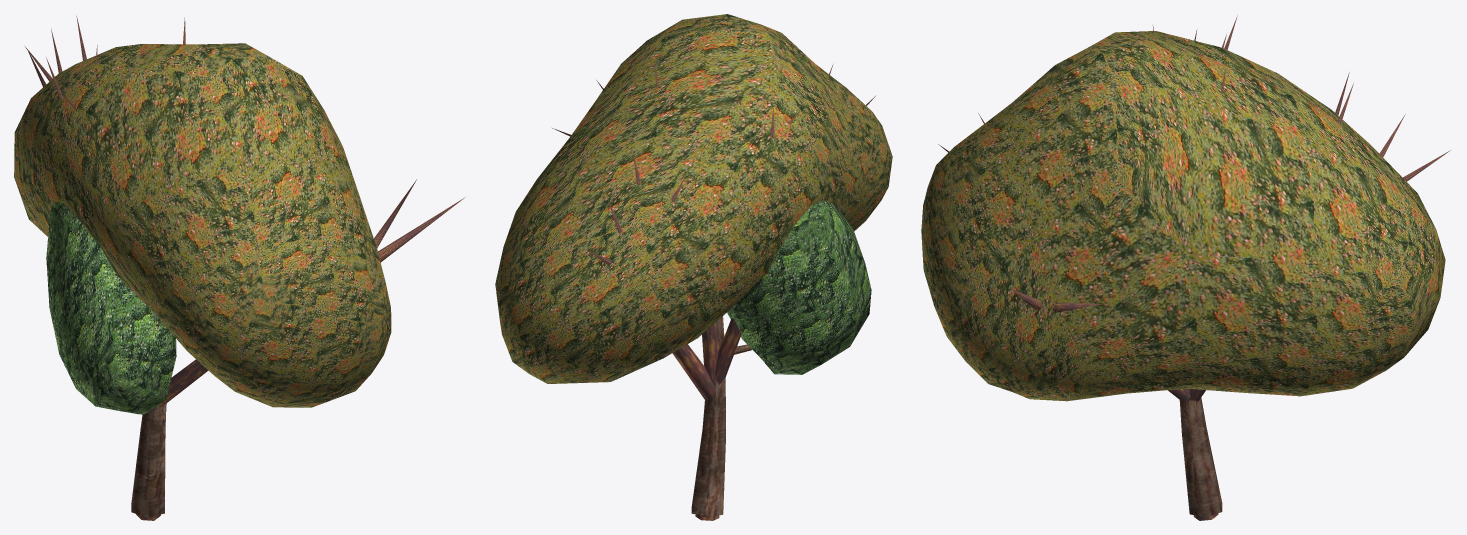
File: nioutreeztest.fbx
3 views of the same model, side by side, from view 1: azimuth 30°, elevation 25°; view 2: azimuth 150°, elevation 25°; view 3: azimuth 270°, elevation 25° (orthographic). The views are drawn at different scales.
Parts seen in each view (by area): view 1: Cube, tree; view 2: Cube, tree; view 3: Cube, tree.
Part boxes in pixels (x1,y1,x2,y2): Cube: (14, 16, 464, 520); tree: (45, 194, 176, 517); Cube: (495, 14, 892, 520); tree: (691, 200, 871, 517); Cube: (921, 15, 1450, 520); tree: (1179, 388, 1222, 516).
Bounding box in the file's own units: 354 × 491 × 490.
